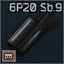AK-74 polymer handguard 6P20 Sb.9: (0, 0, 64, 64)
